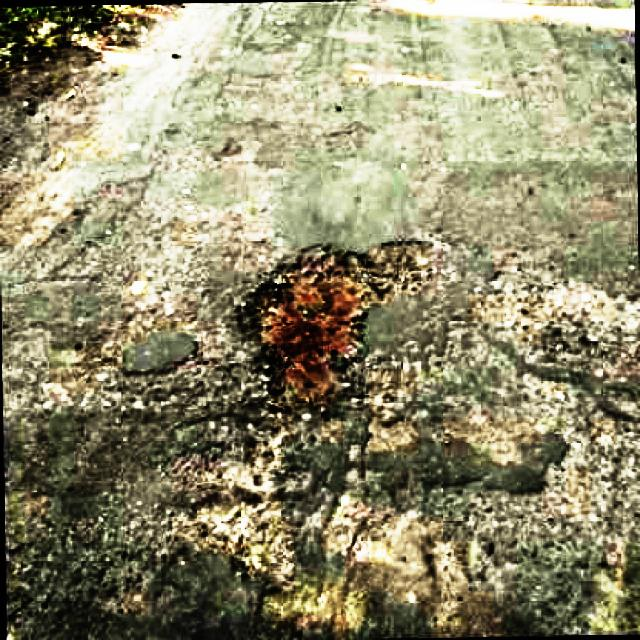pothole: (234, 226, 457, 428), (184, 487, 375, 640), (497, 257, 640, 421)
